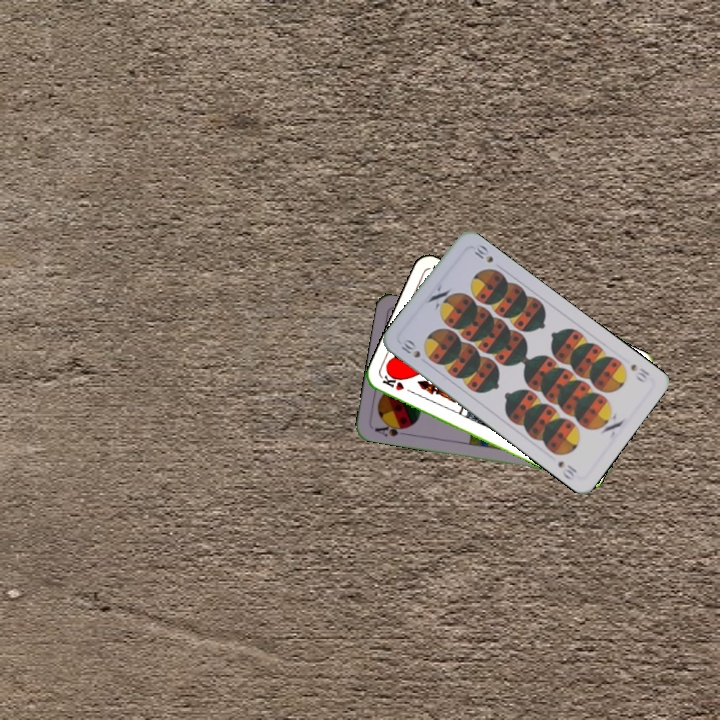HK: (378, 371, 417, 397)
S10: (626, 360, 653, 385), (396, 337, 423, 361)
SA: (371, 419, 411, 439)
